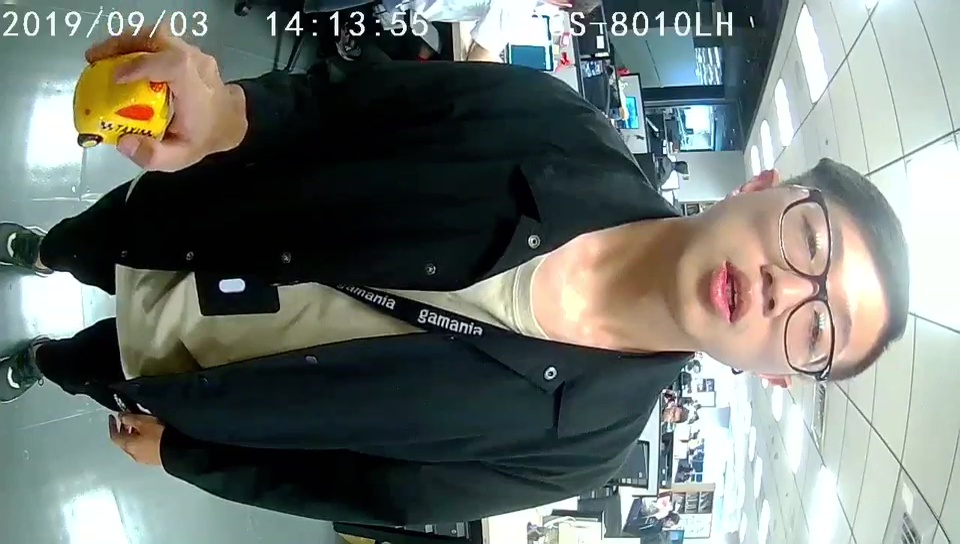car: (72, 47, 167, 148)
